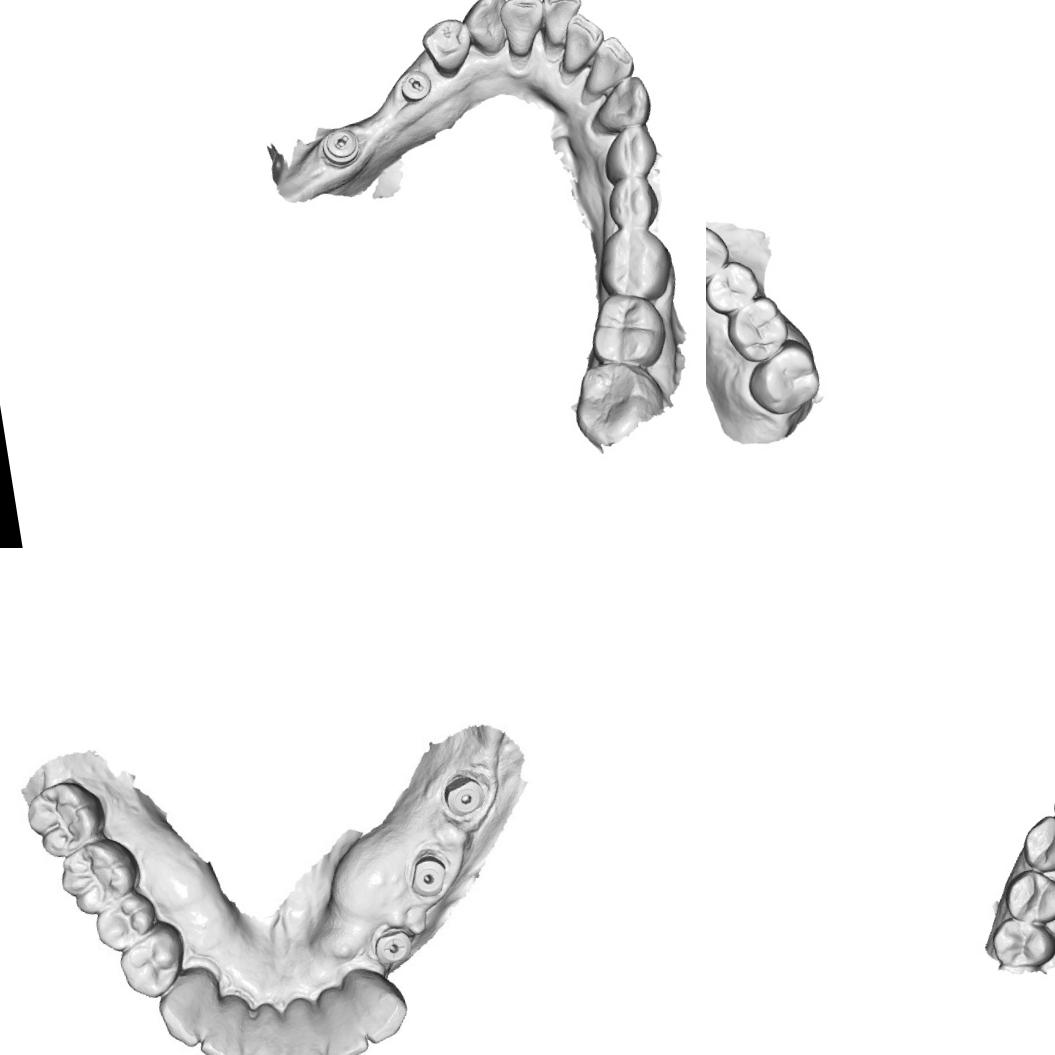canine: (341, 962, 412, 1048), (153, 972, 224, 1048), (584, 73, 657, 141), (458, 0, 515, 61), (1017, 811, 1055, 876)
implant: (402, 846, 455, 906), (439, 766, 490, 826)
implant_minus: (316, 124, 364, 172), (395, 66, 436, 107)
implant_plus: (364, 915, 420, 976)
incisor: (570, 32, 640, 106), (550, 8, 610, 83), (191, 994, 257, 1055), (319, 986, 372, 1055), (273, 994, 330, 1055), (495, 0, 548, 62), (537, 0, 589, 53), (237, 999, 284, 1055)
molar: (567, 352, 673, 452), (584, 285, 672, 376), (590, 219, 678, 306), (740, 334, 825, 421), (54, 838, 137, 916), (24, 780, 102, 854), (722, 292, 794, 367)
premolar: (596, 120, 664, 187), (986, 908, 1055, 974), (122, 930, 188, 998), (418, 15, 478, 82), (998, 863, 1055, 930), (600, 172, 663, 232), (706, 257, 764, 317), (95, 899, 156, 955), (706, 220, 734, 288)
